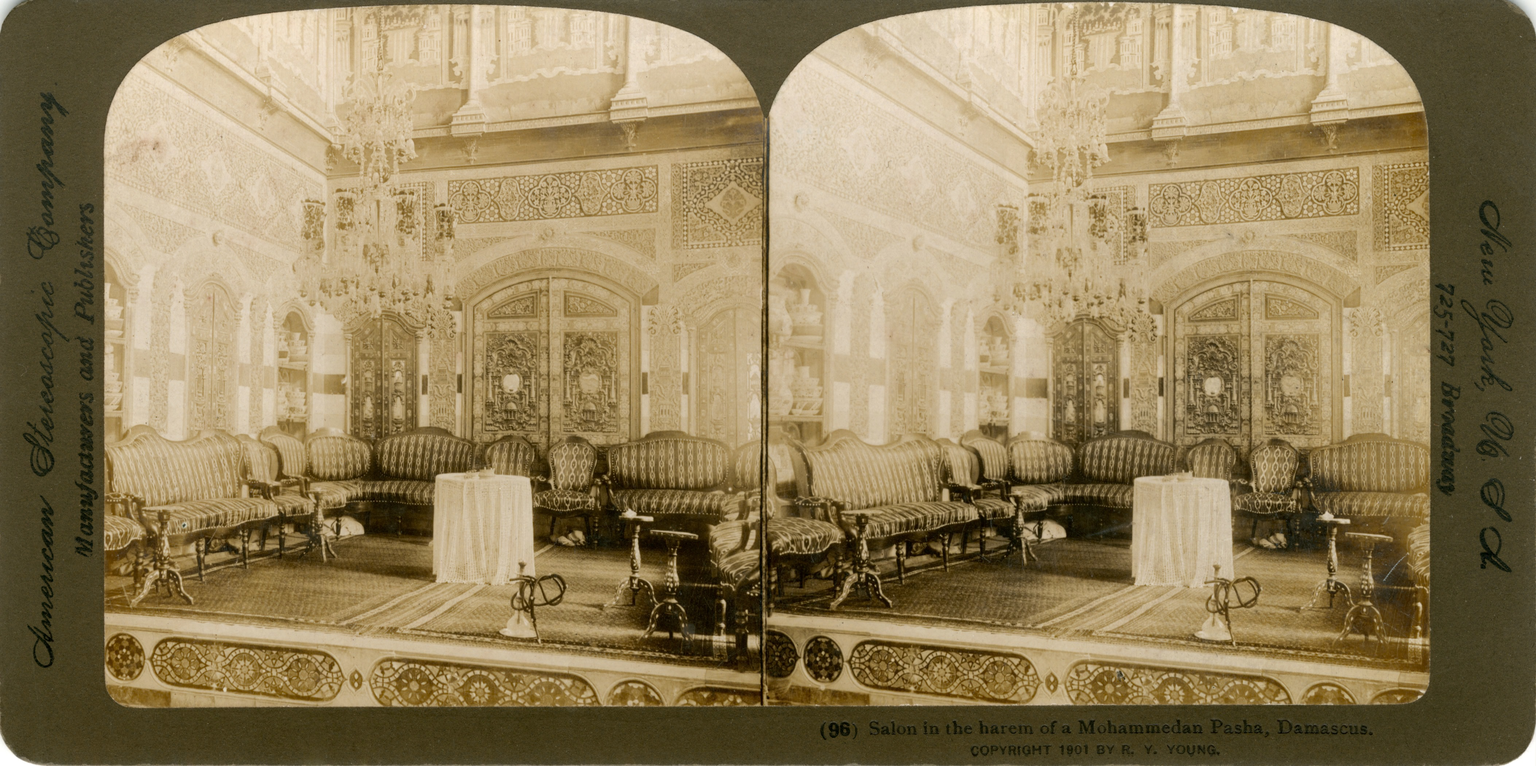half_image: (769, 1, 1430, 708), (104, 4, 764, 709)
